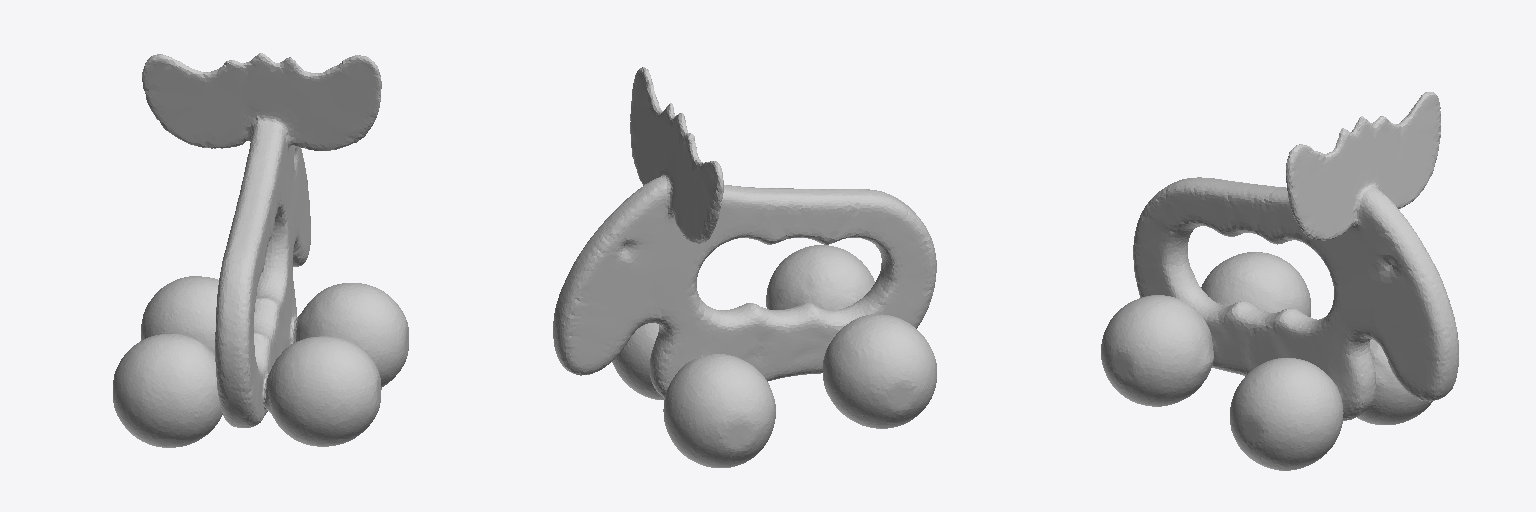
Rendered from elk.obj.
3 renders of one model, left to right at view 1: azimuth 30°, elevation 25°; view 2: azimuth 150°, elevation 25°; view 3: azimuth 270°, elevation 25°, orthographic.
Bounding box in the file's own units: 149 × 159 × 156.